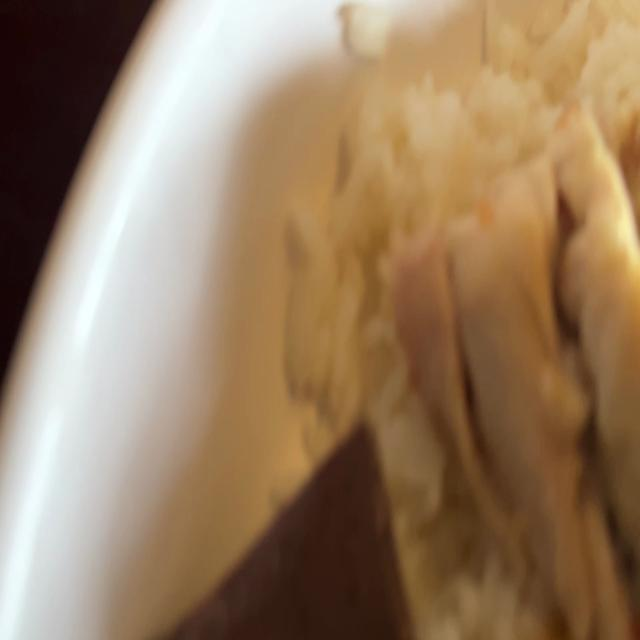boiled_chicken: (398, 116, 640, 615)
boiled_chicken_blood_jelly: (132, 427, 414, 640)
chicken_rice: (133, 0, 640, 640)
